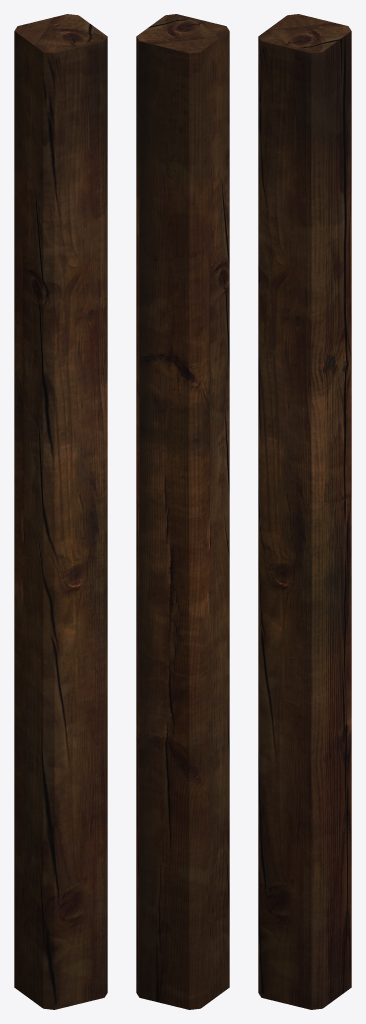
File: Pillar_Wood_Square_001.obj
3 views of the same model, side by side, from view 1: azimuth 30°, elevation 25°; view 2: azimuth 150°, elevation 25°; view 3: azimuth 330°, elevation 25° (orthographic).
Parts seen in each view (by area): view 1: Pillar_Wood_Square_013; view 2: Pillar_Wood_Square_013; view 3: Pillar_Wood_Square_013.
Part boxes in pixels (x1,y1,x2,y2): Pillar_Wood_Square_013: (14, 14, 107, 1009); Pillar_Wood_Square_013: (136, 14, 229, 1009); Pillar_Wood_Square_013: (258, 14, 351, 1009).
Bounding box in the file's own units: 18 × 256 × 18.
